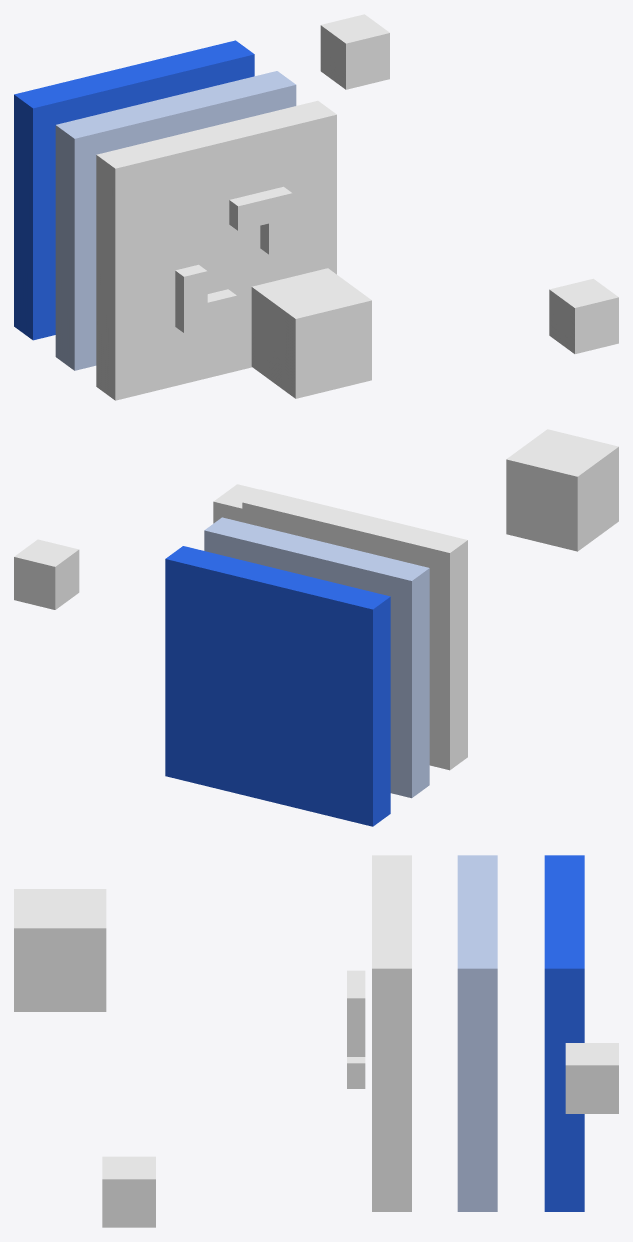
File: code.glb
3 views of the same model, one above another, from view 1: azimuth 30°, elevation 25°; view 2: azimuth 150°, elevation 25°; view 3: azimuth 270°, elevation 25° (orthographic). The views are drawn at different scales.
Parts seen in each view (by area): view 1: 立方体.001, 立方体.002, 立方体, 立方体.022, 立方体.003, 立方体.016, 立方体.017; view 2: 立方体.002, 立方体, 立方体.001, 立方体.022, 立方体.016, 立方体.017; view 3: 立方体, 立方体.001, 立方体.002, 立方体.022, 立方体.017, 立方体.016, 立方体.003.
Part boxes in pixels (<box>): 立方体.001: <box>96,100,336,400</box>; 立方体.002: <box>14,40,254,340</box>; 立方体: <box>55,71,296,370</box>; 立方体.022: <box>251,268,371,398</box>; 立方体.003: <box>175,186,292,332</box>; 立方体.016: <box>320,14,389,89</box>; 立方体.017: <box>549,278,618,353</box>; 立方体.002: <box>165,546,390,826</box>; 立方体: <box>204,517,429,798</box>; 立方体.001: <box>242,489,467,770</box>; 立方体.022: <box>506,429,618,551</box>; 立方体.016: <box>14,539,79,609</box>; 立方体.017: <box>213,484,259,523</box>; 立方体: <box>457,855,497,1211</box>; 立方体.001: <box>372,855,411,1211</box>; 立方体.002: <box>544,855,584,1211</box>; 立方体.022: <box>14,889,106,1011</box>; 立方体.017: <box>102,1156,155,1227</box>; 立方体.016: <box>565,1043,618,1113</box>; 立方体.003: <box>347,970,365,1088</box>.
Bounding box in the file's own units: 1.42 × 0.8385 × 1.89.
